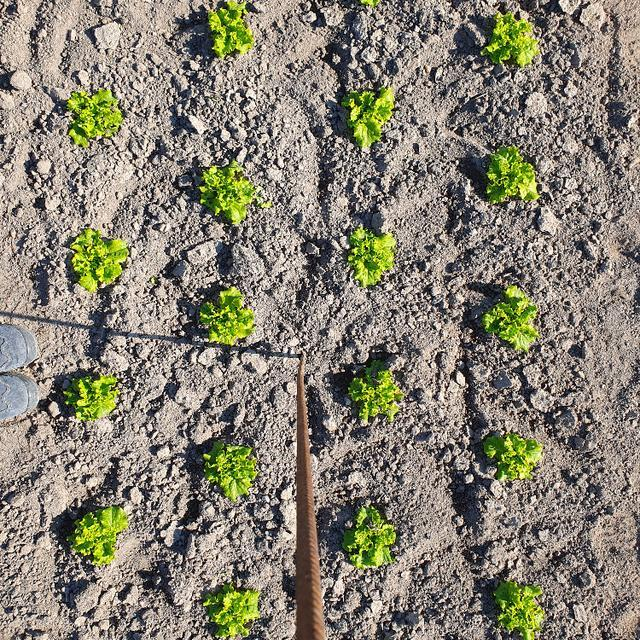Lettuce: (467, 282, 543, 350), (336, 497, 402, 575), (477, 147, 548, 213), (198, 435, 264, 505), (478, 7, 545, 73), (190, 285, 257, 350), (477, 428, 548, 488), (68, 502, 134, 566), (67, 224, 133, 288), (344, 85, 398, 160), (200, 162, 257, 232), (486, 576, 548, 640), (347, 362, 408, 425), (63, 85, 127, 145), (348, 227, 402, 293), (205, 0, 255, 63), (68, 370, 124, 425), (208, 582, 264, 636)
